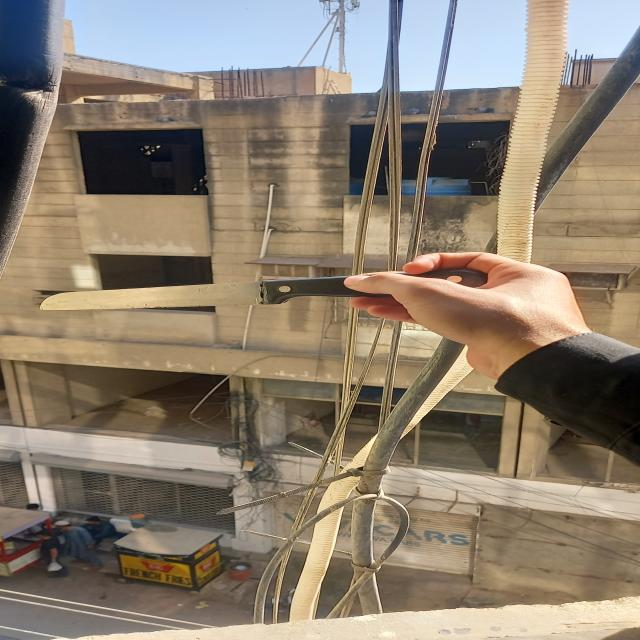Knife: (34, 264, 489, 317)
